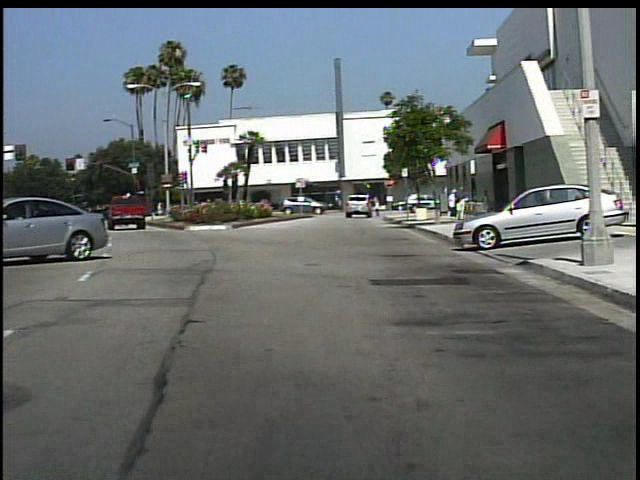person: (455, 186, 469, 224), (477, 187, 493, 219), (371, 192, 385, 221), (447, 188, 459, 220)
